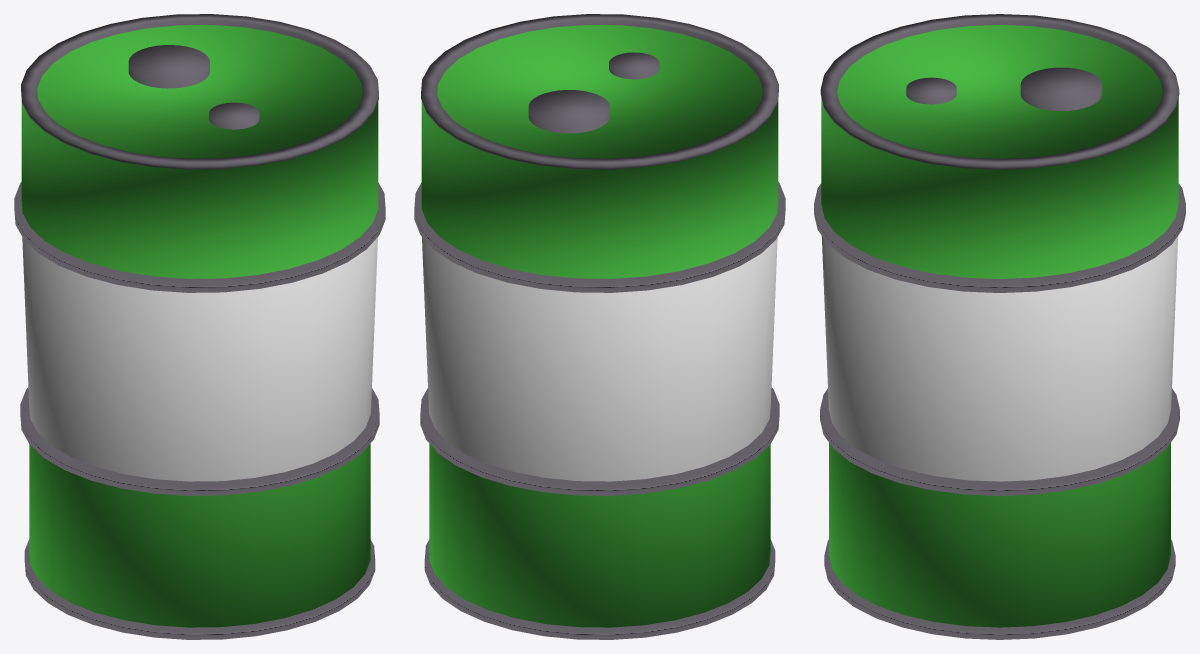
The model's file is greenbarrel.glb.
3 renders of one model, left to right at view 1: azimuth 30°, elevation 25°; view 2: azimuth 150°, elevation 25°; view 3: azimuth 270°, elevation 25°, orthographic.
Visible parts, largest first — view 1: Cylinder, Cylinder.002, Cylinder.001, Cylinder.005, Cylinder.003, Cylinder.004; view 2: Cylinder, Cylinder.002, Cylinder.001, Cylinder.005, Cylinder.003, Cylinder.004; view 3: Cylinder, Cylinder.002, Cylinder.001, Cylinder.005, Cylinder.003, Cylinder.004.
Part boxes in pixels (bbox=[...]): Cylinder: bbox=[21, 14, 378, 627]; Cylinder.002: bbox=[20, 387, 379, 495]; Cylinder.001: bbox=[14, 182, 385, 292]; Cylinder.005: bbox=[24, 539, 375, 639]; Cylinder.003: bbox=[128, 45, 209, 88]; Cylinder.004: bbox=[209, 102, 259, 129]; Cylinder: bbox=[421, 14, 778, 627]; Cylinder.002: bbox=[420, 387, 779, 495]; Cylinder.001: bbox=[414, 182, 785, 292]; Cylinder.005: bbox=[424, 539, 775, 639]; Cylinder.003: bbox=[528, 90, 609, 133]; Cylinder.004: bbox=[609, 52, 659, 79]; Cylinder: bbox=[820, 14, 1179, 627]; Cylinder.002: bbox=[820, 388, 1179, 495]; Cylinder.001: bbox=[814, 183, 1185, 292]; Cylinder.005: bbox=[824, 539, 1175, 639]; Cylinder.003: bbox=[1020, 67, 1102, 110]; Cylinder.004: bbox=[906, 77, 956, 104].
Size of the model in its own units: 1.07 by 1.53 by 1.07.
